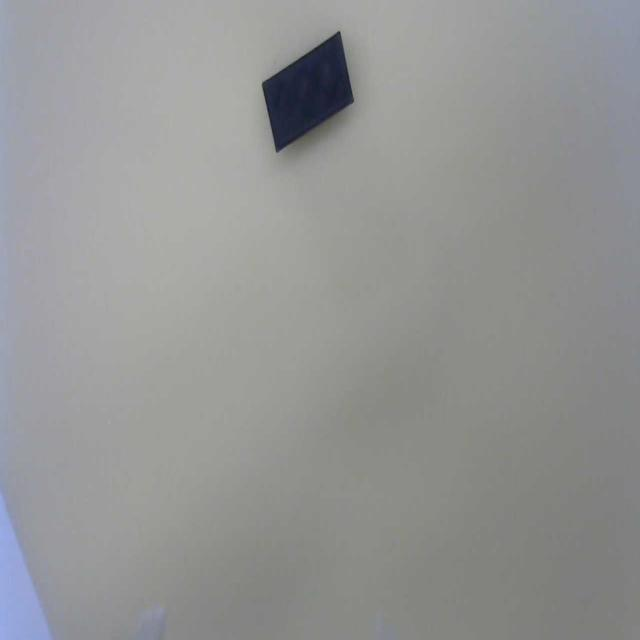rectangle: (263, 33, 354, 152)
